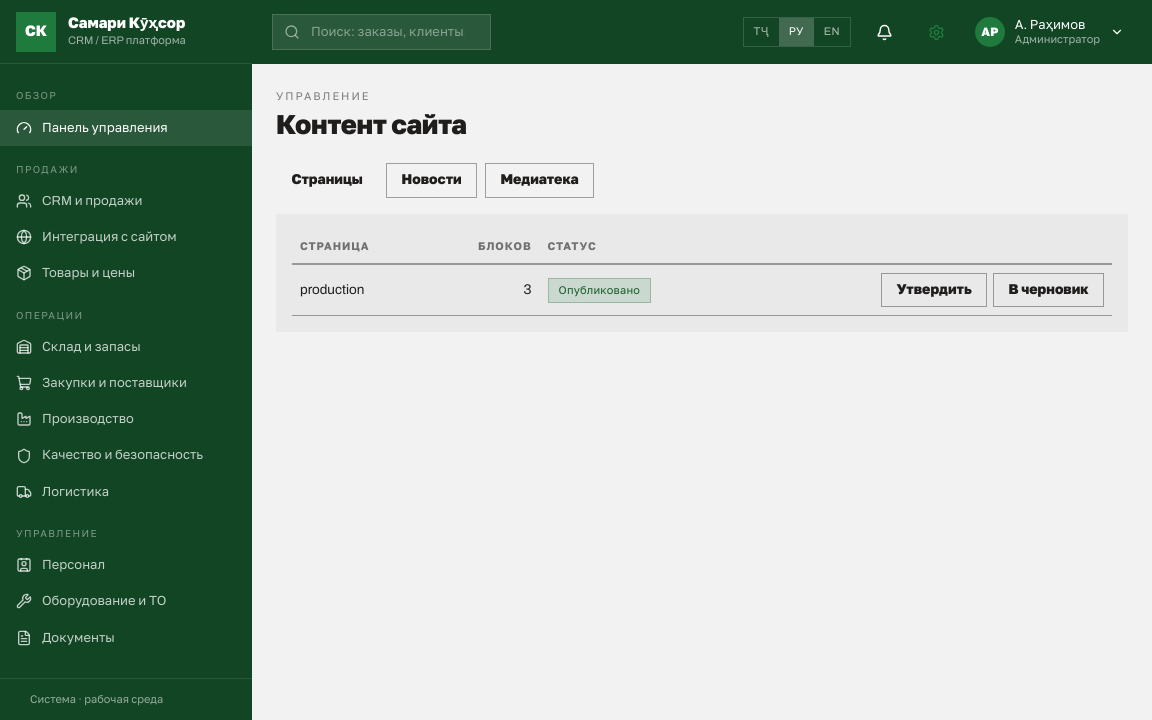
Scenario: published content › disables the block editor and says how to proceed
The width and height of the screenshot is (1152, 720).
Click the button "production".
click(332, 291)  # box [300,280,364,301]
(page scrolled)
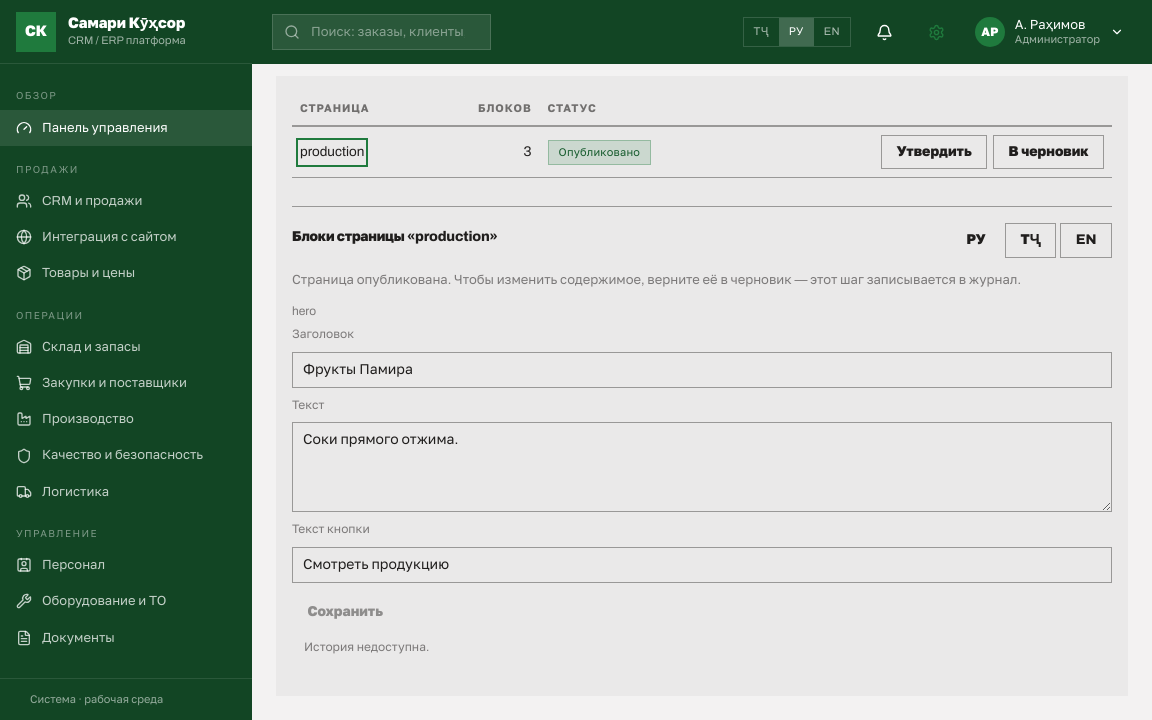
Expected: the text with test id "frozen-notice" is shown, [292,270,1112,290]
Expected: the field labelled "Заголовок" is disabled, [292,352,1112,388]
Expected: the button "Сохранить" is disabled, [292,595,398,630]
